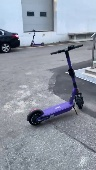beam: (25, 43, 85, 127), (28, 29, 45, 47)
